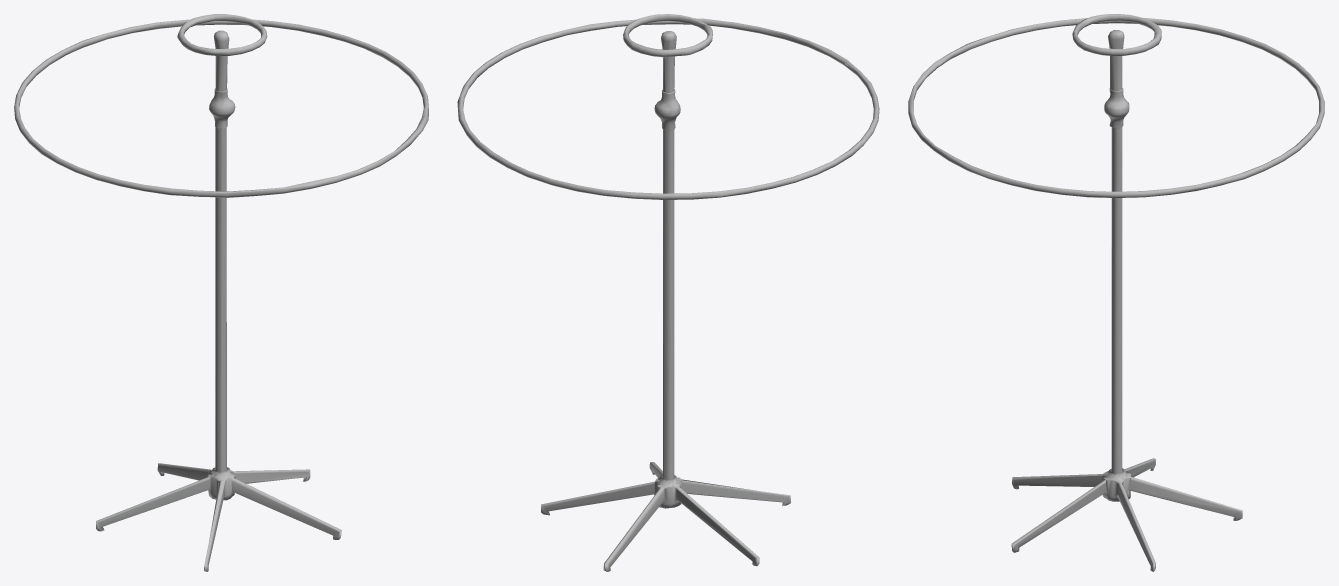
The model's file is mall-garment-rail-round.glb.
3 renders of one model, left to right at view 1: azimuth 30°, elevation 25°; view 2: azimuth 150°, elevation 25°; view 3: azimuth 270°, elevation 25°, orthographic.
Visible parts, largest first — view 1: garment-rail-round; view 2: garment-rail-round; view 3: garment-rail-round.
Boxes of the visible parts, <box> form: garment-rail-round: <box>14,14,428,571</box>; garment-rail-round: <box>457,14,879,571</box>; garment-rail-round: <box>908,14,1324,571</box>.
Bounding box in the file's own units: 1.2 × 1.54 × 1.19.
Materials: 1 (1 with a texture image).
